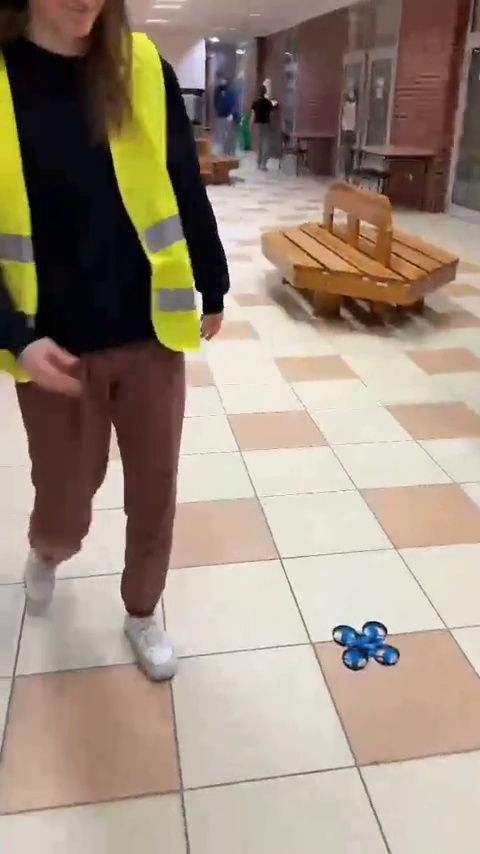drone: (333, 620, 405, 673)
no vest: (209, 70, 240, 164), (249, 92, 282, 172)
vest: (2, 0, 200, 680)
